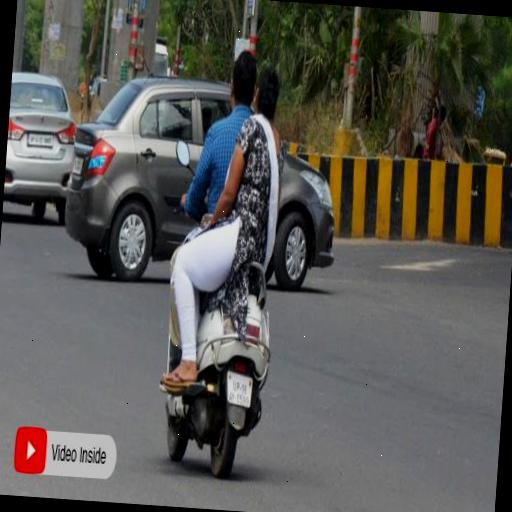no helmet: (176, 30, 259, 284)
